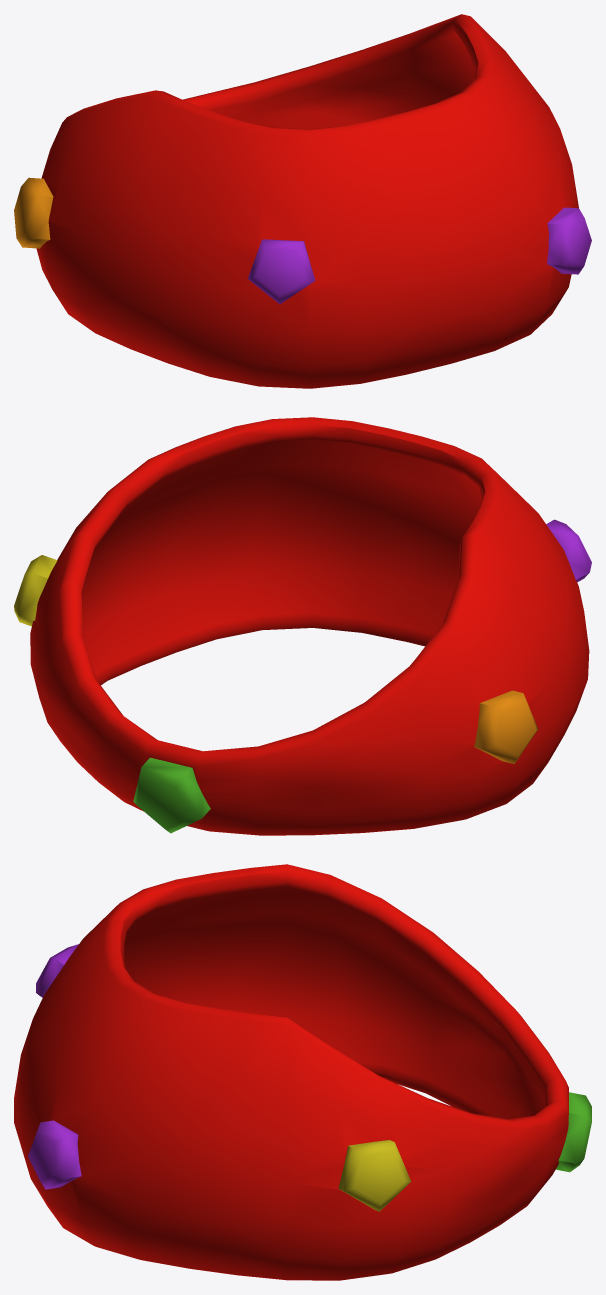
File: Gummy_Armor.glb
3 renders of one model, top to bottom at view 1: azimuth 30°, elevation 25°; view 2: azimuth 150°, elevation 25°; view 3: azimuth 270°, elevation 25°, orthographic. The views are drawn at different scales.
Visible parts, largest first — view 1: Gummy_Armor; view 2: Gummy_Armor; view 3: Gummy_Armor.
Part boxes in pixels (x1,y1,x2,y2): Gummy_Armor: [14, 14, 591, 388]; Gummy_Armor: [14, 417, 591, 835]; Gummy_Armor: [14, 864, 591, 1280].
Bounding box in the file's own units: 1.48 × 0.6567 × 1.46.
